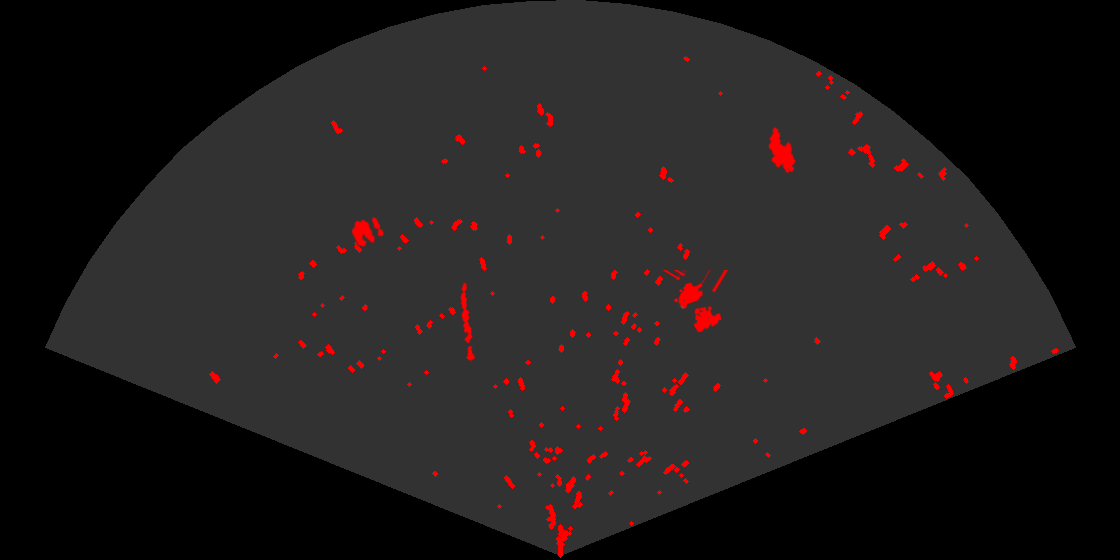AUV: (767, 125, 797, 175)
ball: (350, 215, 386, 249)
cage: (661, 270, 730, 334)
chain: (459, 281, 476, 364)
